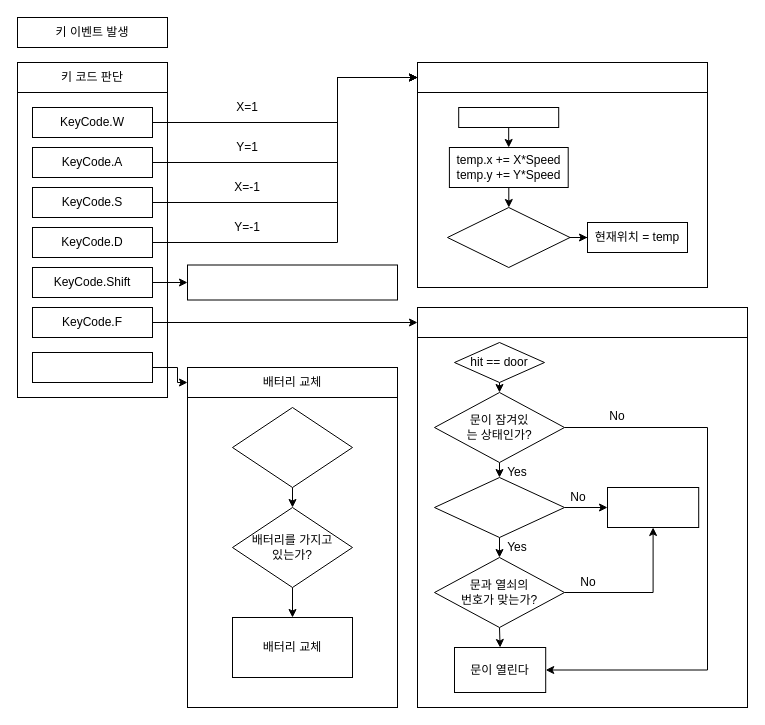
This 765x725 diagram has some shape labels left out. Each missing label, with the box of its shape:
isRun = true, Speed = 10, 애니메이션 재생: (186, 264, 398, 300)
KeyCode.R: (32, 352, 152, 382)
temp = 현재위치: (458, 106, 559, 128)
temp위치로 이동가능한가?: (446, 206, 570, 268)
상호작용: (416, 306, 748, 338)
손전등이 활성화 된 상태인가?: (232, 406, 352, 488)
열쇠를 가지 고 있는가?: (434, 476, 564, 538)
잠겨있는 사운드 재생: (606, 486, 699, 528)
캐릭터의 이동: (416, 62, 708, 92)
